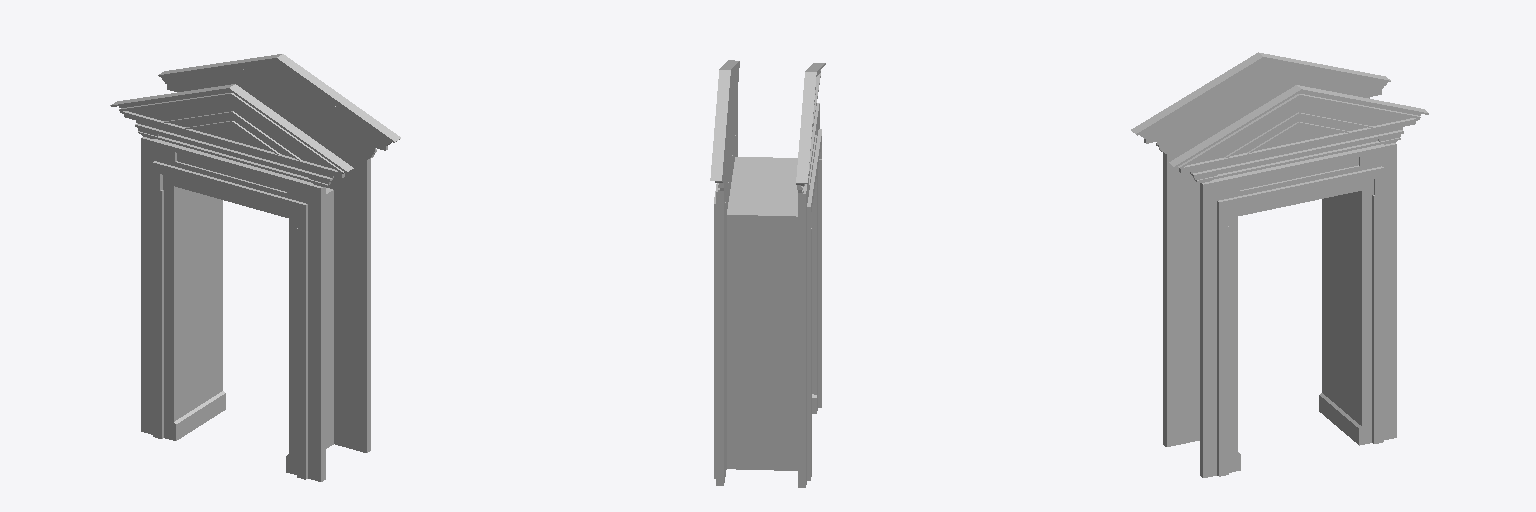
Rendered from door3.obj.
3 renders of one model, left to right at view 1: azimuth 30°, elevation 25°; view 2: azimuth 150°, elevation 25°; view 3: azimuth 270°, elevation 25°, orthographic.
Visible parts, largest first — view 1: pasted__Mesh pasted__portal008 pasted__polySurface1 group, pasted__Mesh pasted__Object001 pasted__polySurface1 group; view 2: pasted__Mesh pasted__portal008 pasted__polySurface1 group, pasted__Mesh pasted__Object001 pasted__polySurface1 group; view 3: pasted__Mesh pasted__Object001 pasted__polySurface1 group, pasted__Mesh pasted__portal008 pasted__polySurface1 group.
Part boxes in pixels (x1,y1,x2,y2): pasted__Mesh pasted__portal008 pasted__polySurface1 group: (110,84,353,481); pasted__Mesh pasted__Object001 pasted__polySurface1 group: (158,54,400,452); pasted__Mesh pasted__portal008 pasted__polySurface1 group: (727,63,825,487); pasted__Mesh pasted__Object001 pasted__polySurface1 group: (710,60,739,485); pasted__Mesh pasted__Object001 pasted__polySurface1 group: (1169,85,1428,477); pasted__Mesh pasted__portal008 pasted__polySurface1 group: (1131,52,1390,446).
Bounding box in the file's own units: 4.95 × 9.45 × 6.91.